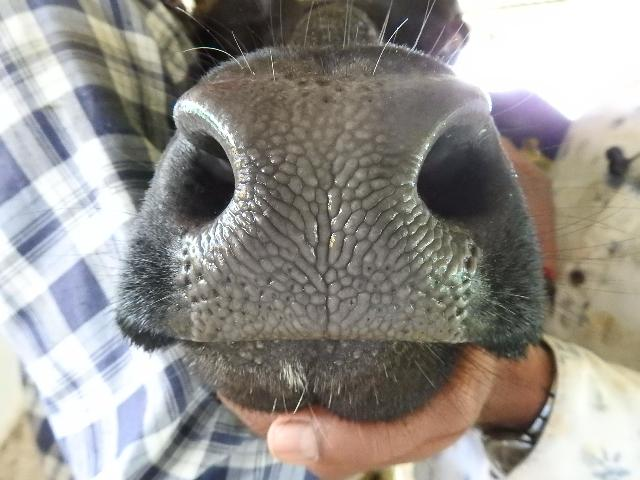Muzzle: (210, 90, 424, 338)
